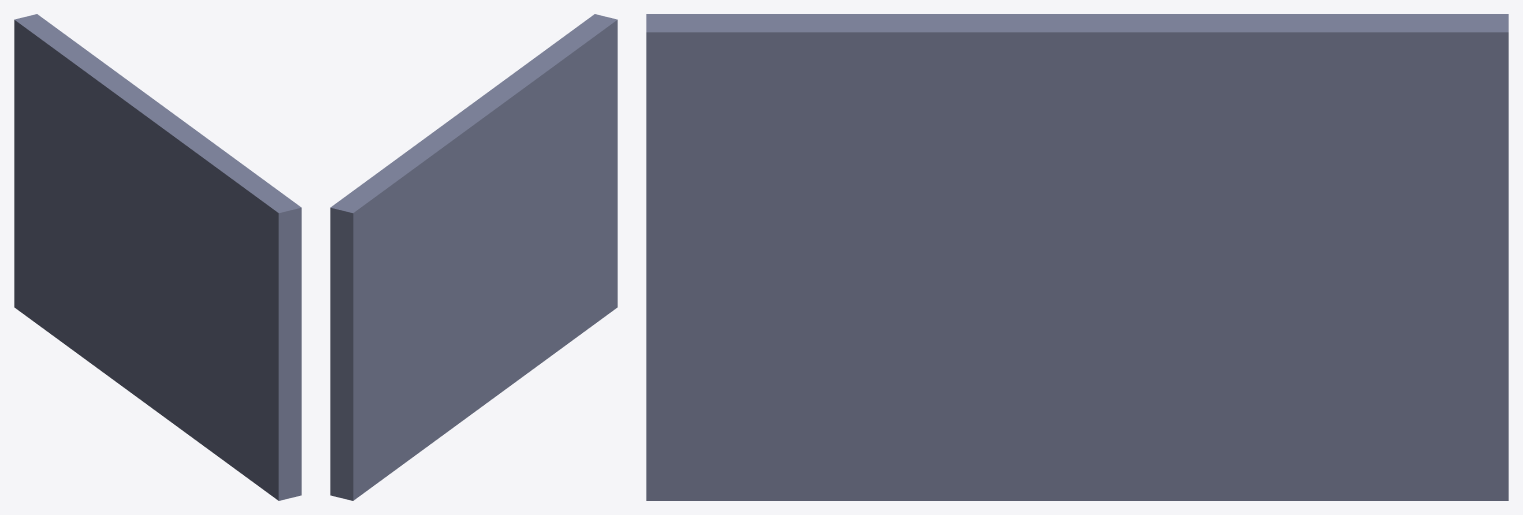
File: wall-low.obj
3 renders of one model, left to right at view 1: azimuth 30°, elevation 25°; view 2: azimuth 150°, elevation 25°; view 3: azimuth 270°, elevation 25°, orthographic. The views are drawn at different scales.
Size of the model in its own units: 0.1 by 1.2 by 2.
